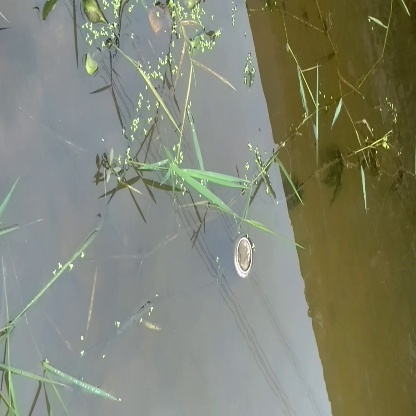bottle: (225, 230, 267, 286)
